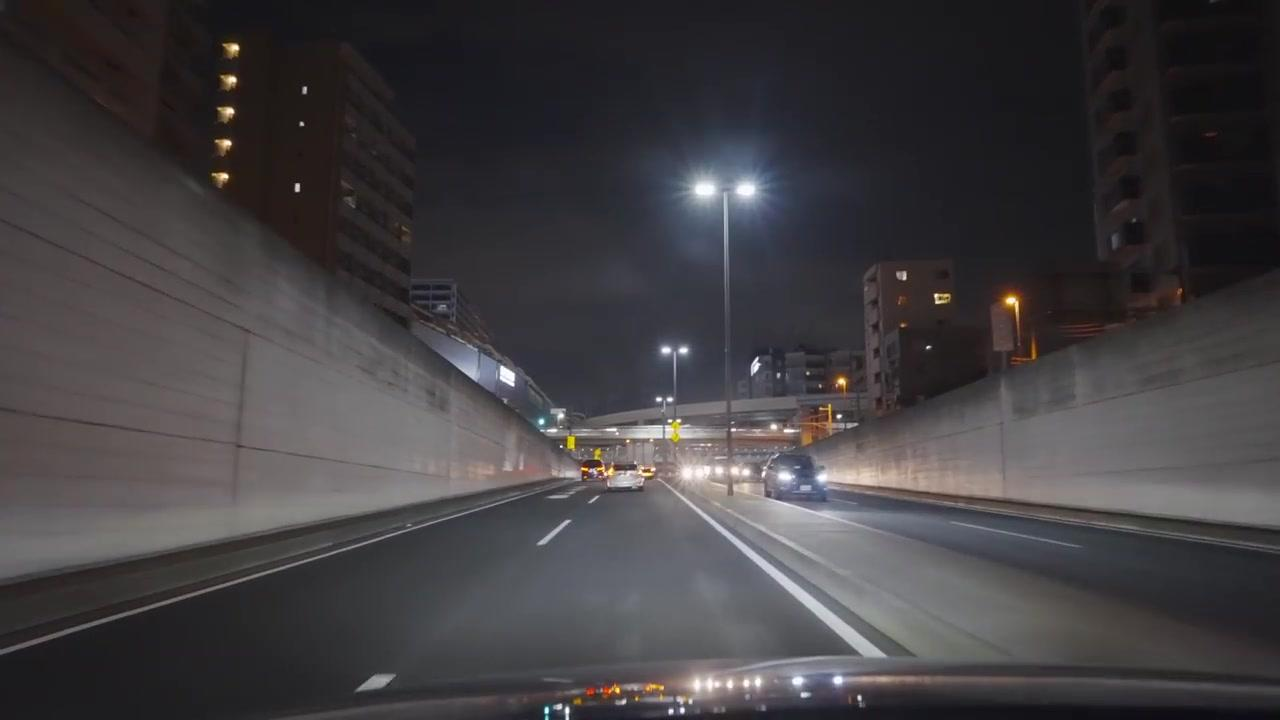car: (762, 452, 828, 502), (608, 470, 644, 491), (639, 465, 655, 480)
traffic light: (669, 419, 680, 443)
